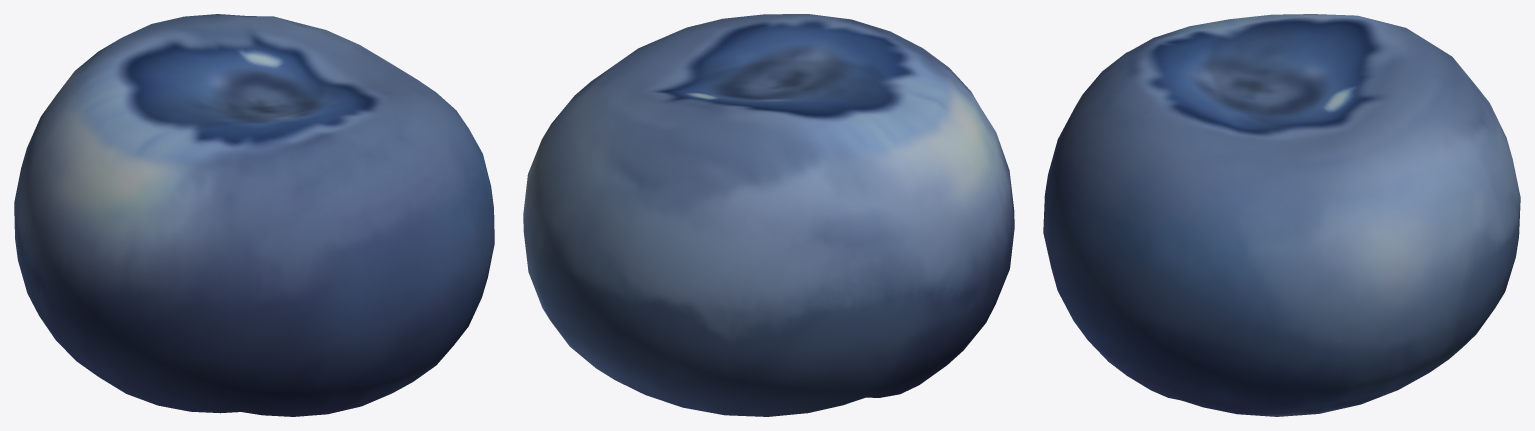
File: blueberry.glb
3 renders of one model, left to right at view 1: azimuth 30°, elevation 25°; view 2: azimuth 150°, elevation 25°; view 3: azimuth 270°, elevation 25°, orthographic. The views are drawn at different scales.
Parts seen in each view (by area): view 1: blueberry001; view 2: blueberry001; view 3: blueberry001.
Boxes of the visible parts, box(x1,y1,x2,y2) form: blueberry001: box(14, 14, 494, 416); blueberry001: box(523, 14, 1014, 416); blueberry001: box(1043, 14, 1520, 416).
Bounding box in the file's own units: 2.32 × 1.53 × 2.32.
Materials: 1 (1 with a texture image).
